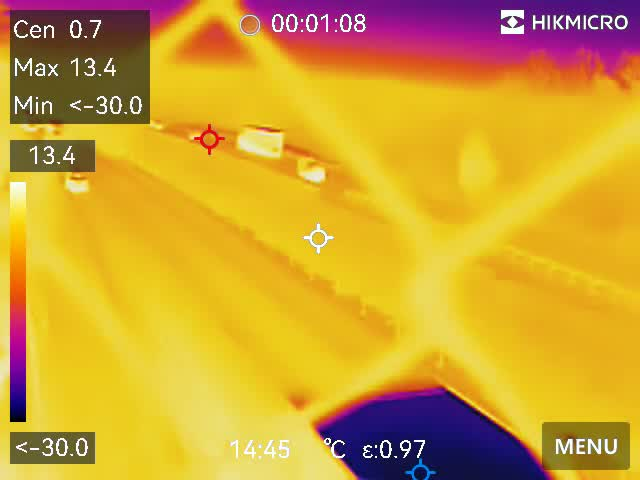heavyTruck: (232, 122, 286, 157)
vehicle: (294, 162, 328, 184), (66, 164, 89, 196)
